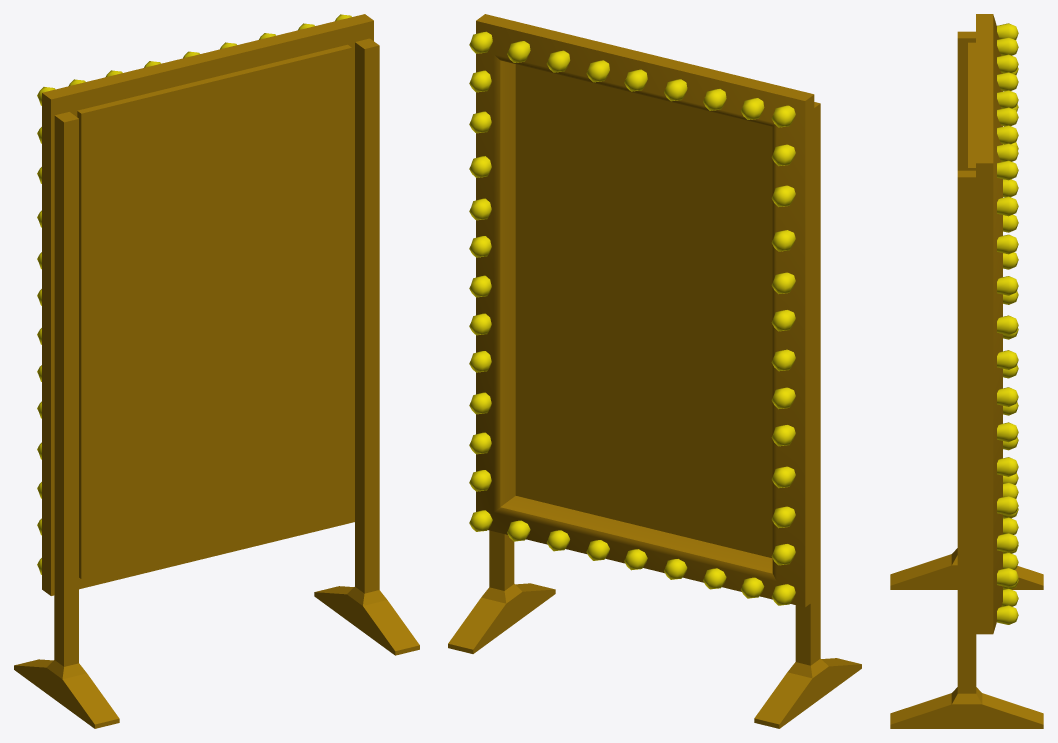
Rendered from WoodFrame_ClubGirl.fbx.
3 views of the same model, side by side, from view 1: azimuth 30°, elevation 25°; view 2: azimuth 150°, elevation 25°; view 3: azimuth 270°, elevation 25° (orthographic). The views are drawn at different scales.
Visible parts, largest first — view 1: WoodFramEClubGirl; view 2: WoodFramEClubGirl; view 3: WoodFramEClubGirl.
Part boxes in pixels (x1,y1,x2,y2): WoodFramEClubGirl: (14,14,419,728); WoodFramEClubGirl: (448,14,861,728); WoodFramEClubGirl: (890,14,1043,728).
Size of the model in its own units: 98.58 by 173 by 42.46.
